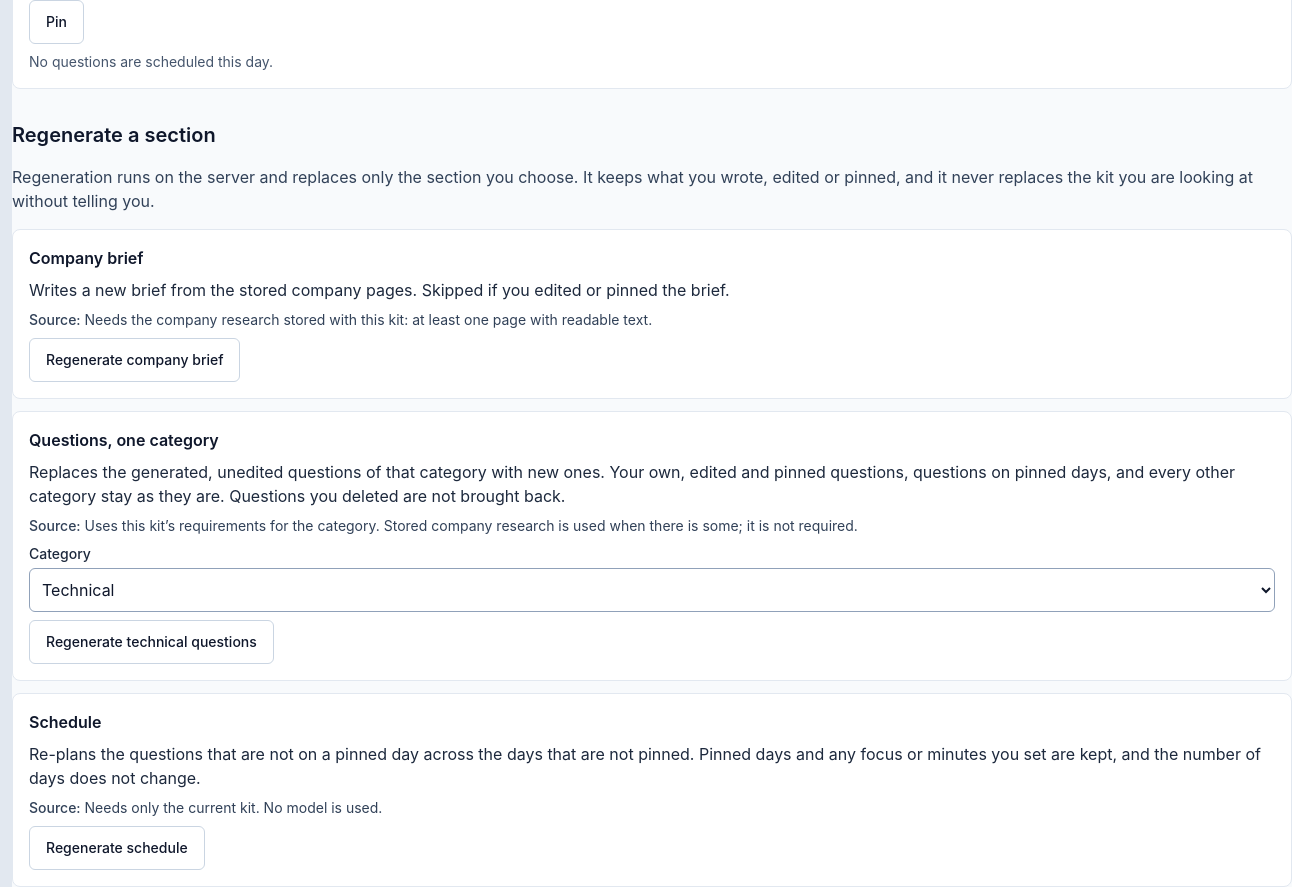
Test: starting a regeneration › starts one question category and shows kept, replaced, added, skipped and coverage gaps
(page scrolled)
Select "Behavioural" in the dropdown labelled "Category" at (652, 590), box [29, 568, 1275, 612]
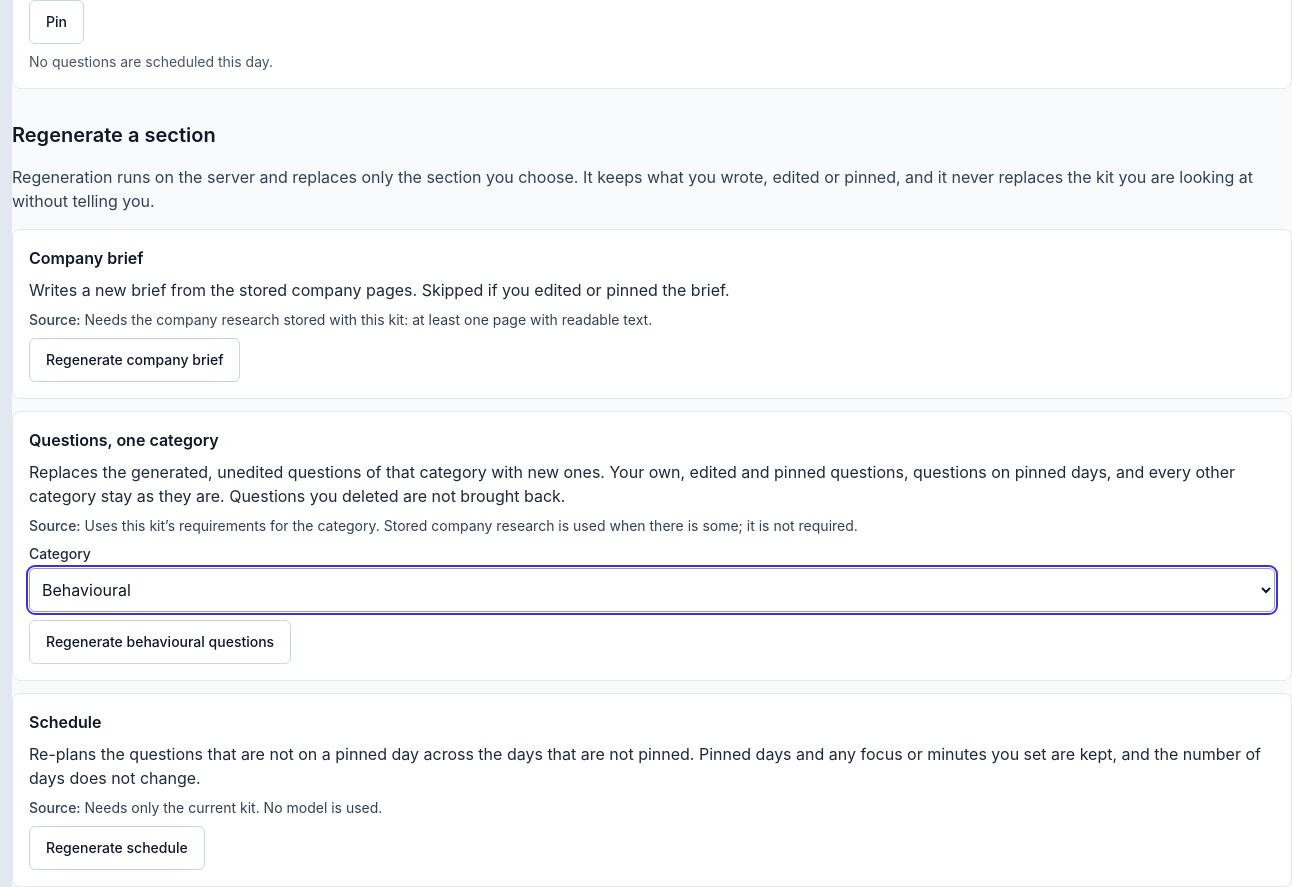
Click the button "Regenerate behavioural questions" at (160, 642), box [29, 620, 291, 664]
(page scrolled)
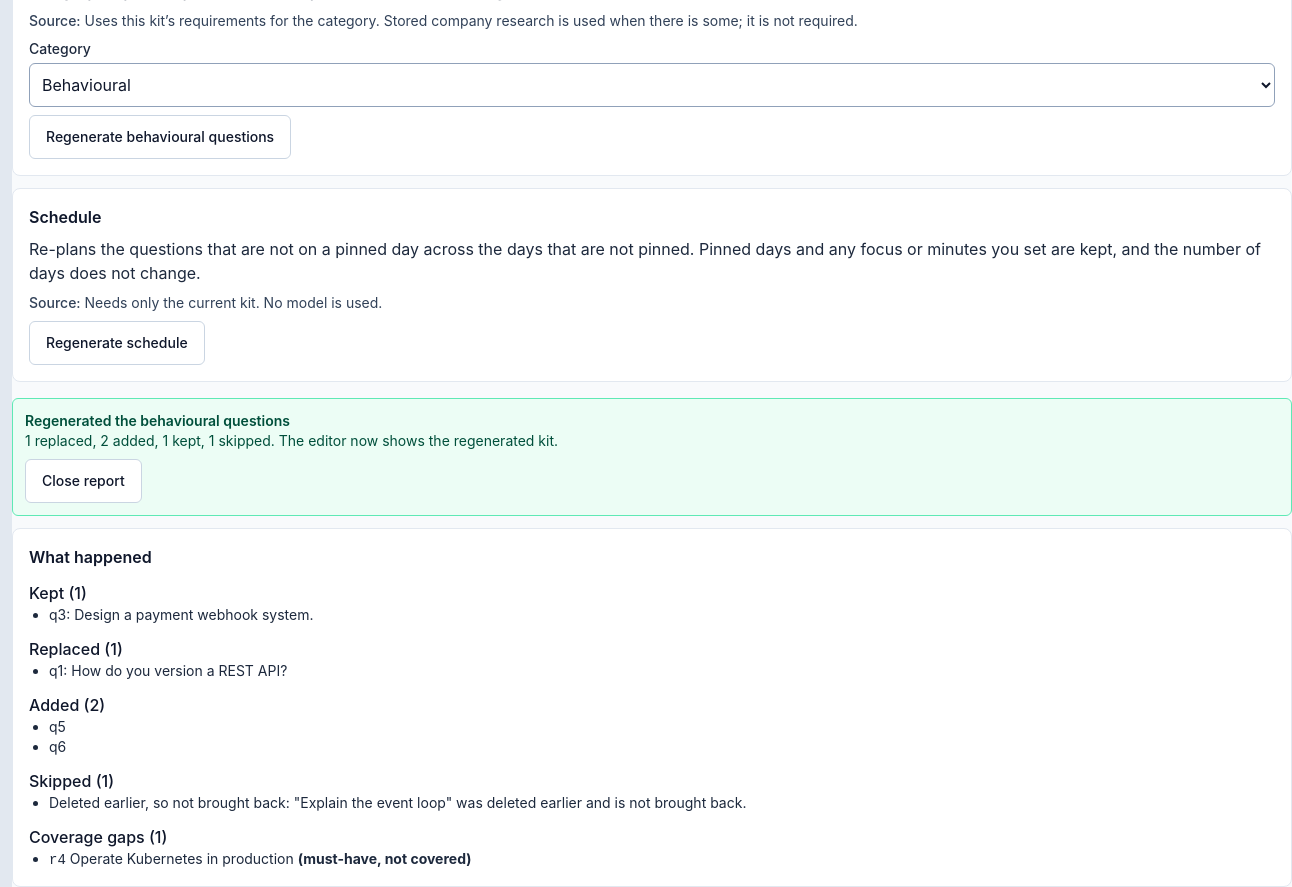
Now the heading "Kept (1)" is shown, box [29, 583, 87, 603]
Now the heading "Replaced (1)" is shown, box [29, 639, 123, 659]
Now the heading "Added (2)" is shown, box [29, 695, 105, 715]
